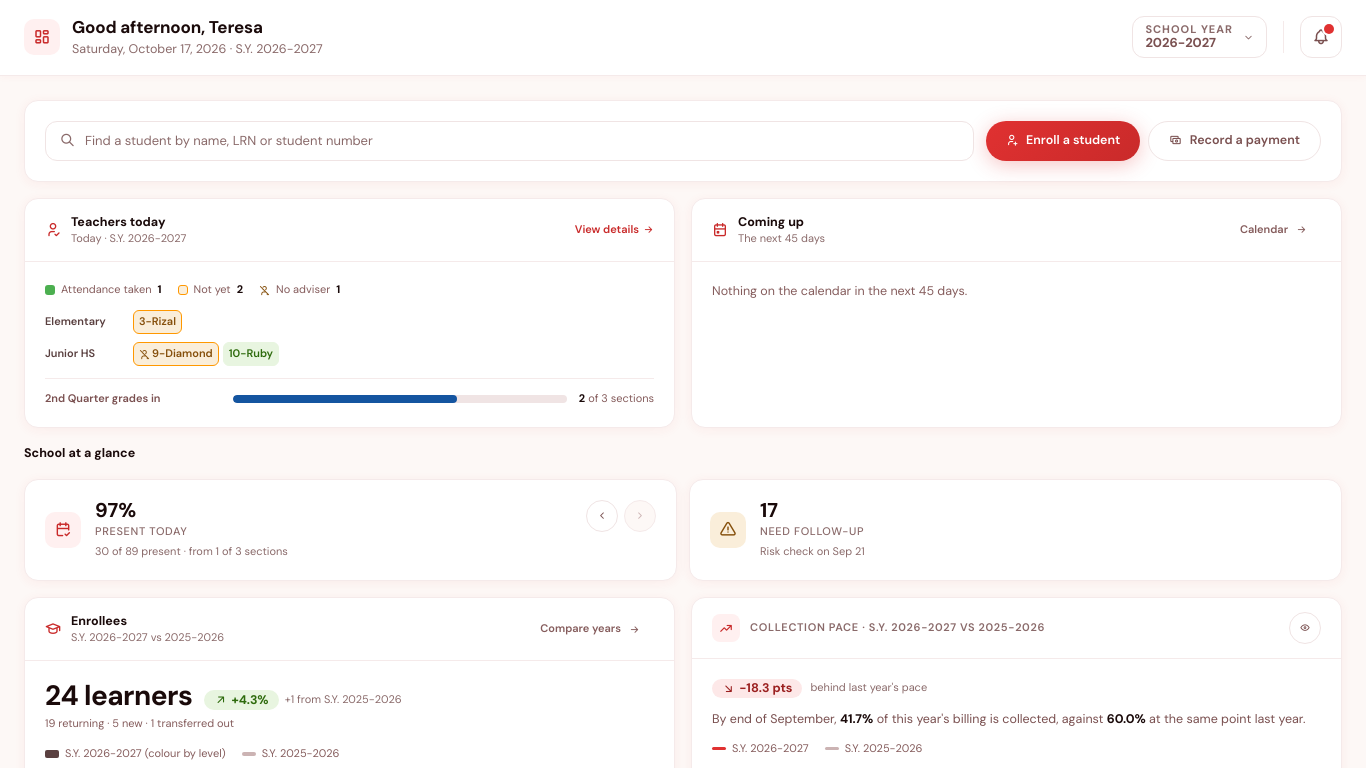
Test: AdminHome — teachers today › asks for quarter dates in the window when the calendar has none
This screenshot has width=1366, height=768.
Click the button with aria-label "Teachers today: open details". click: (350, 230)
box: [25,198,674,427]
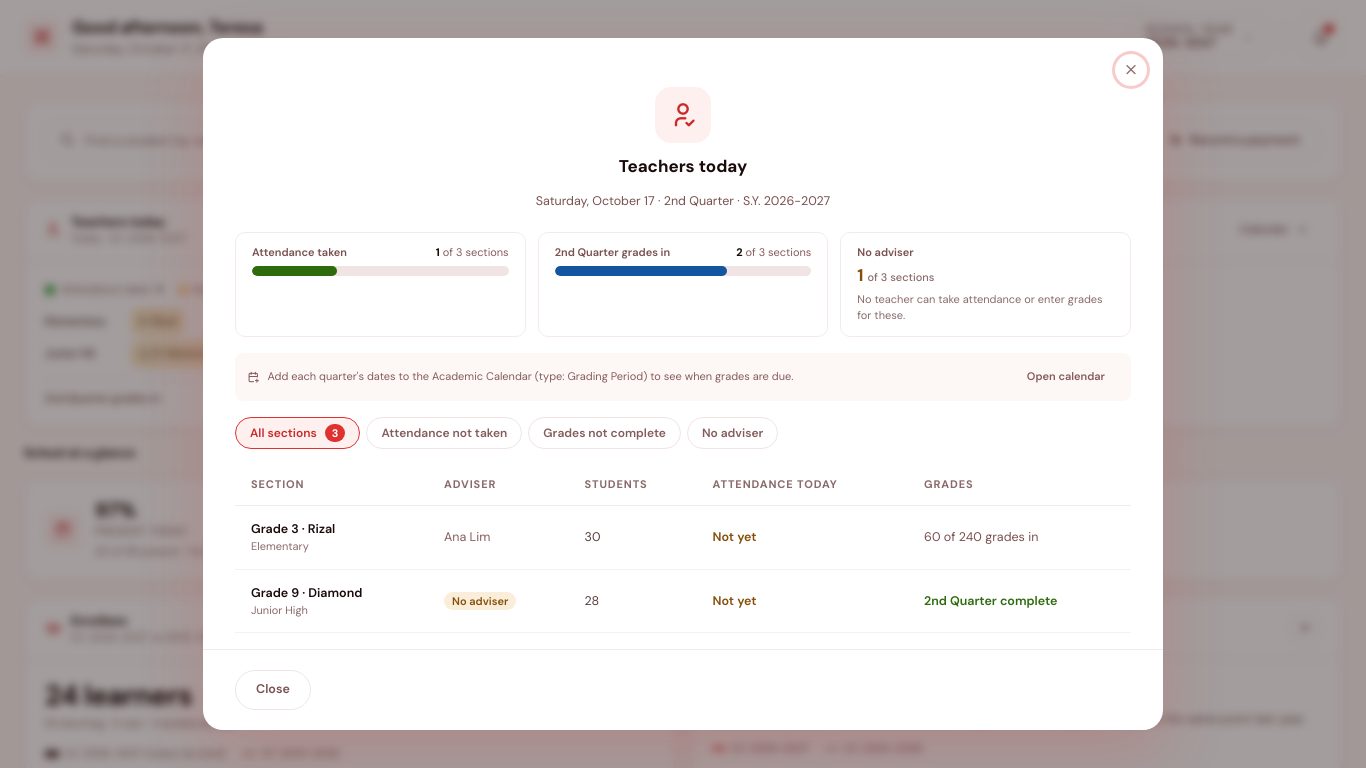
Check: the text "Add each quarter's dates to the Academic Calendar" is shown, box [268,369,793,383]
